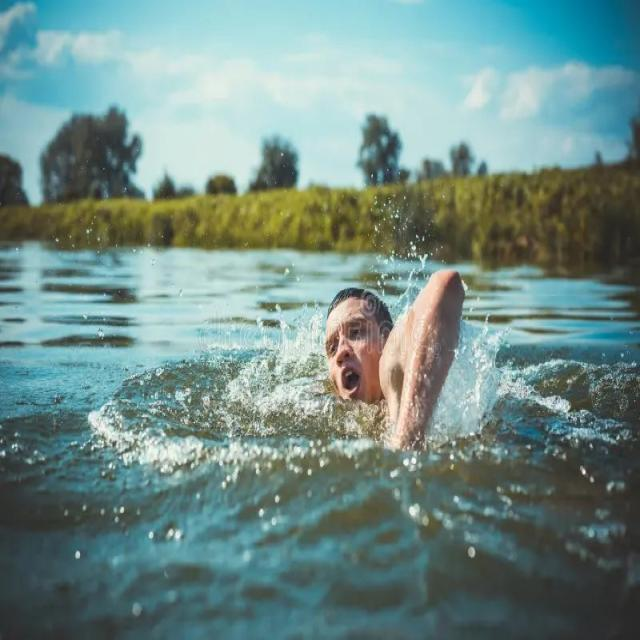swimming: (297, 243, 510, 500)
